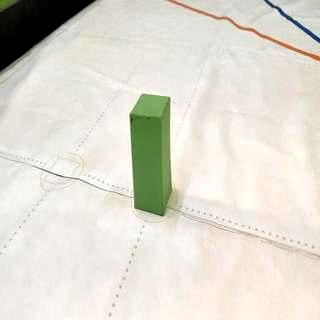greenbox: (128, 94, 173, 214)
